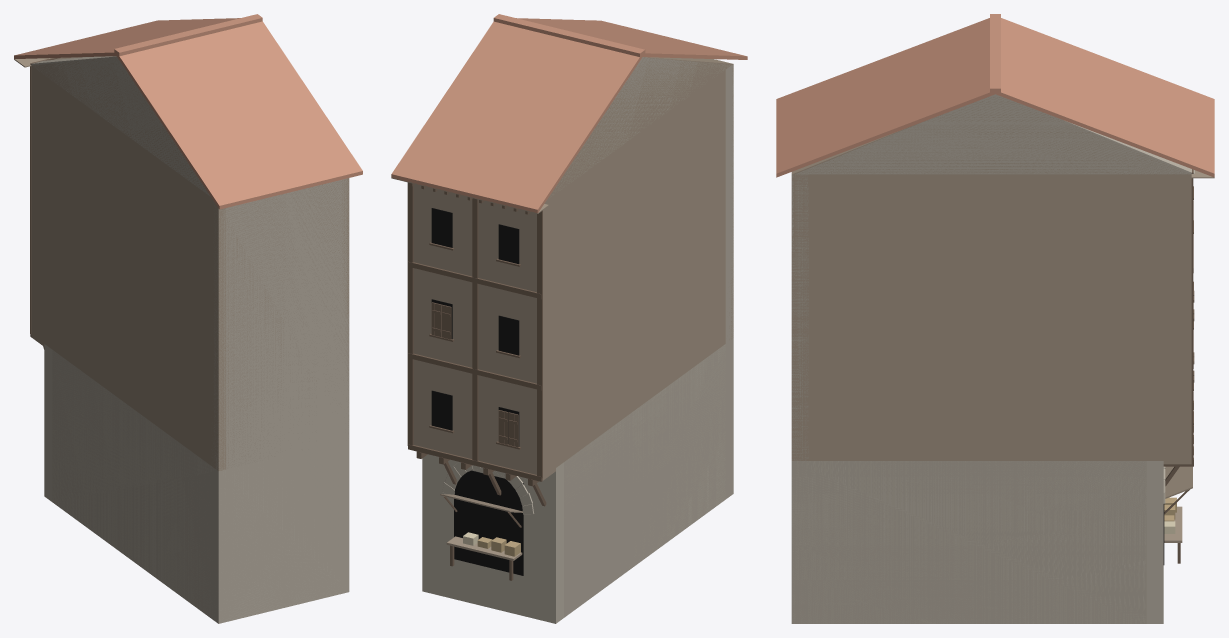
File: casa-52-3-legno.glb
3 renders of one model, left to right at view 1: azimuth 30°, elevation 25°; view 2: azimuth 150°, elevation 25°; view 3: azimuth 270°, elevation 25°, orthographic. The views are drawn at different scales.
Visible parts, largest first — view 1: vicino, lontano; view 2: vicino, lontano, aperta; view 3: vicino, lontano, aperta.
Boxes of the visible parts, x1,y1,x2,y2 form: vicino: (14, 14, 362, 623); lontano: (14, 54, 362, 623); vicino: (391, 14, 747, 623); lontano: (391, 54, 747, 622); aperta: (440, 494, 522, 580); vicino: (776, 14, 1214, 623); lontano: (776, 91, 1214, 623); aperta: (1164, 466, 1192, 563).
Bounding box in the file's own units: 5.7 × 19.17 × 14.15.
